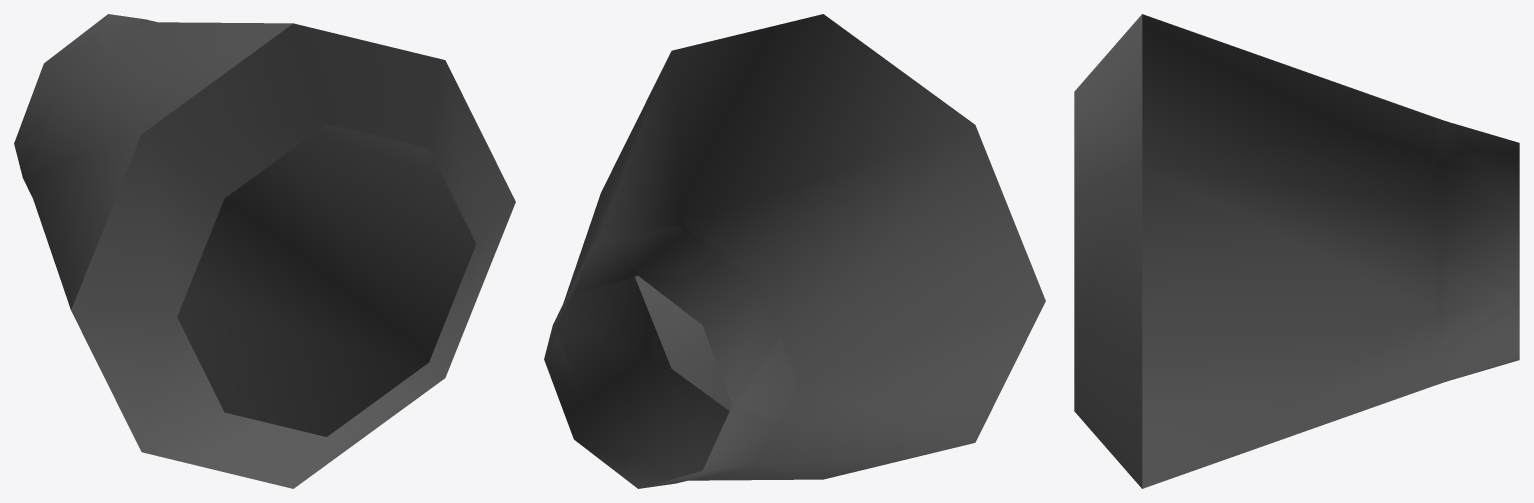
The model's file is stat_vossk_bottom1.glb.
3 renders of one model, left to right at view 1: azimuth 30°, elevation 25°; view 2: azimuth 150°, elevation 25°; view 3: azimuth 270°, elevation 25°, orthographic.
Visible parts, largest first — view 1: group_13; view 2: group_13; view 3: group_13.
Boxes of the visible parts, x1,y1,x2,y2 form: group_13: [14, 14, 515, 488]; group_13: [544, 14, 1045, 488]; group_13: [1074, 14, 1519, 488].
Size of the model in its own units: 11492 by 11492 by 9778.
Materials: 1 (1 with a texture image).
